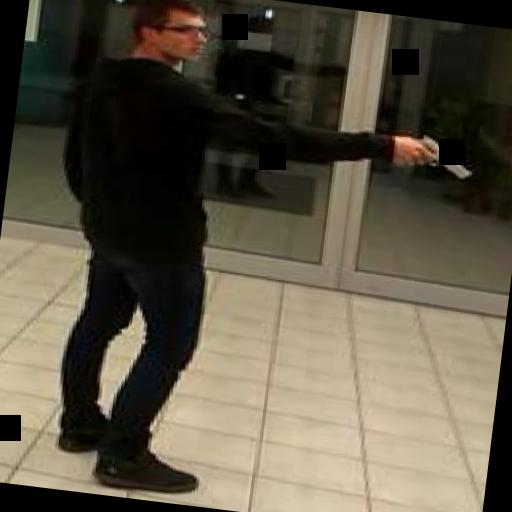Handgun: (394, 128, 476, 180)
